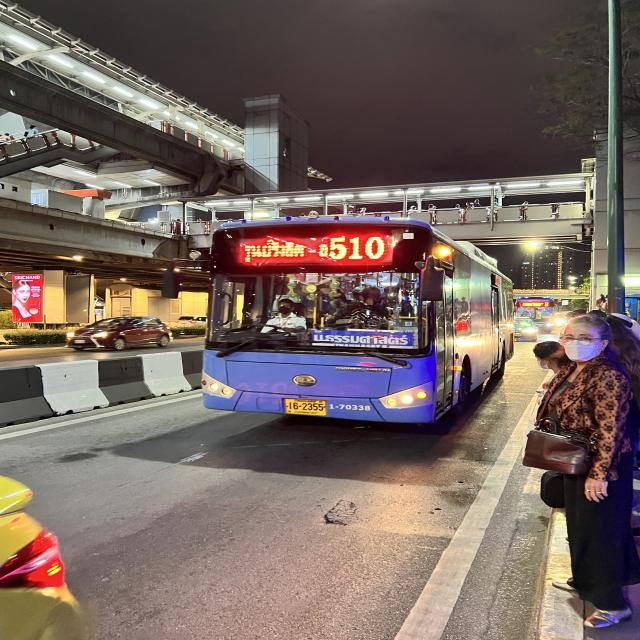BMTA-bus: (198, 216, 516, 427)
Bus Line Number: (328, 235, 386, 263)
Bus Side Number: (328, 395, 372, 416)
Destination Sign: (309, 328, 420, 352)
